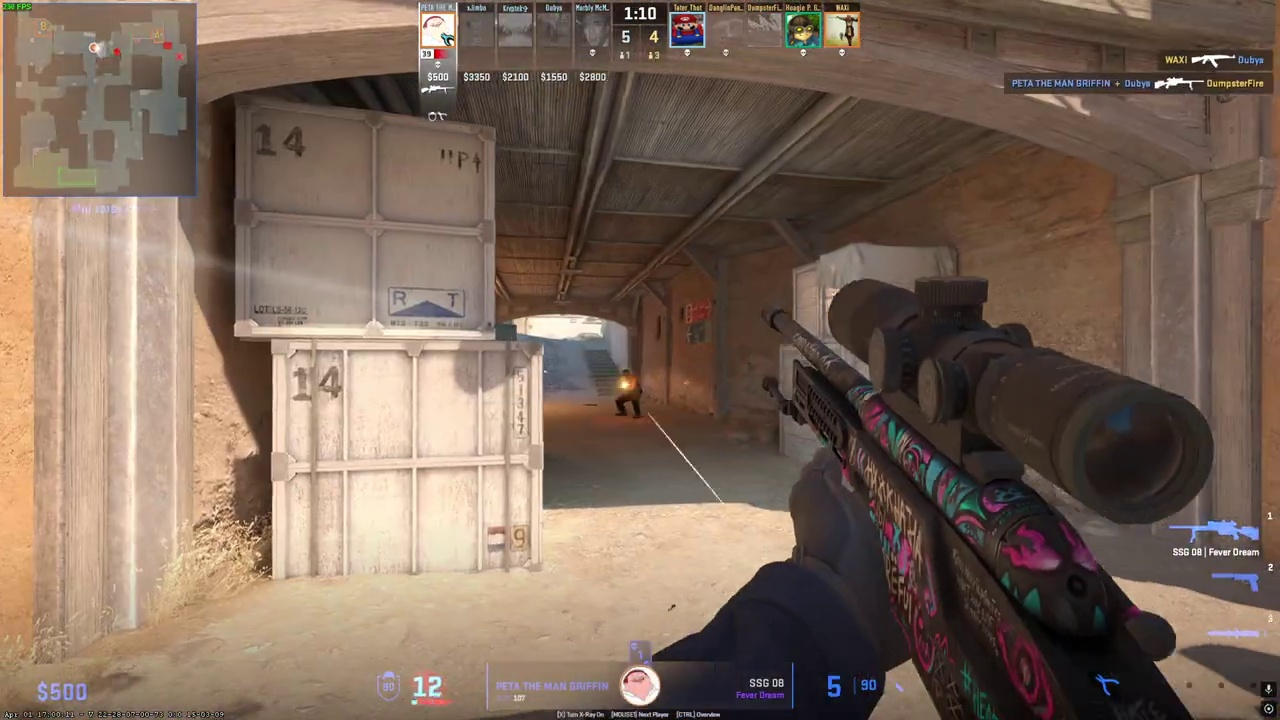Terrorist: (615, 369, 642, 419)
